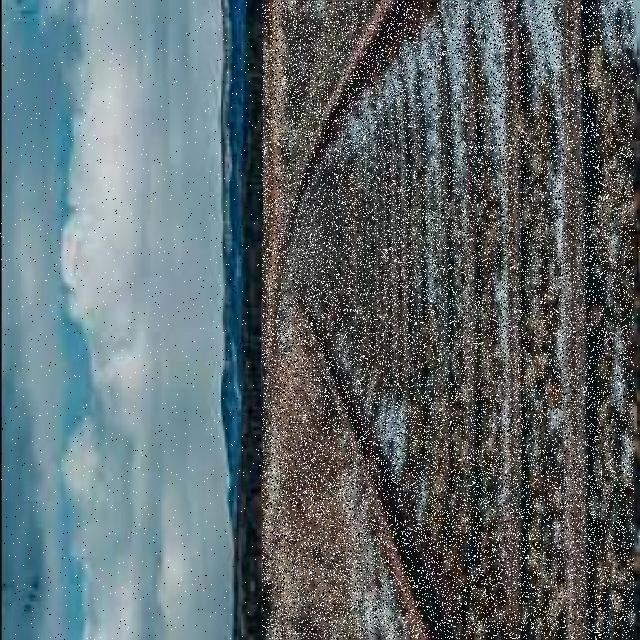rail: (262, 1, 634, 639)
